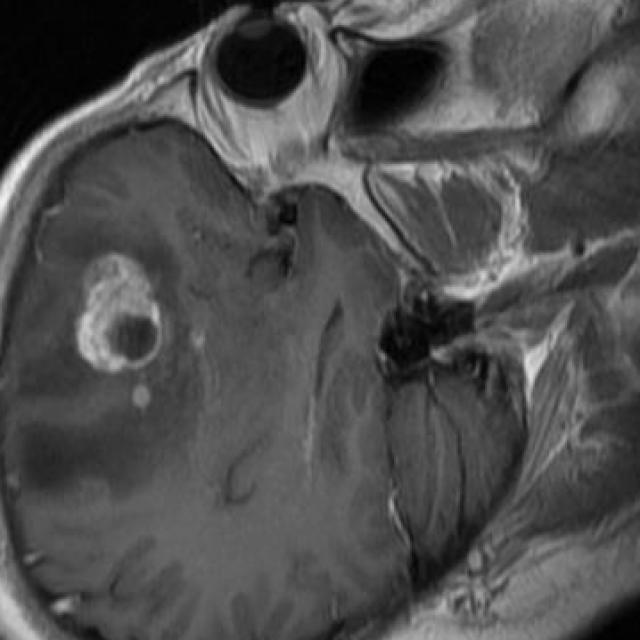glioma: (23, 216, 200, 501)
